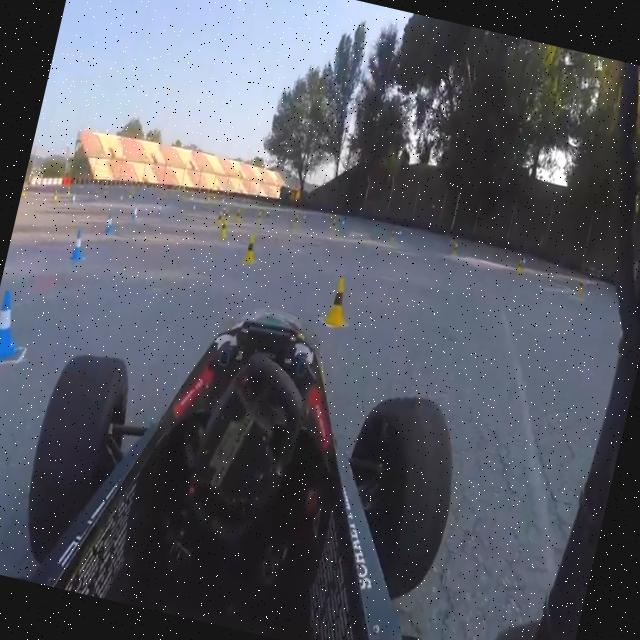blue_cone: (0, 287, 27, 363), (69, 228, 88, 264), (103, 213, 114, 233), (130, 202, 140, 224)
yellow_cone: (322, 274, 354, 330), (240, 232, 262, 268), (574, 276, 586, 300), (217, 218, 230, 240), (514, 256, 524, 274)
